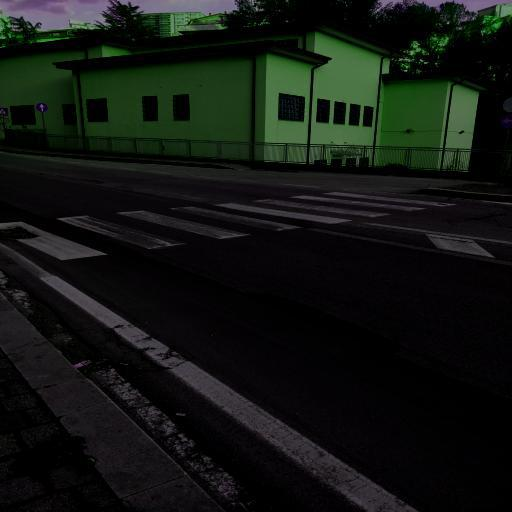crosswalk: (48, 206, 259, 254)
